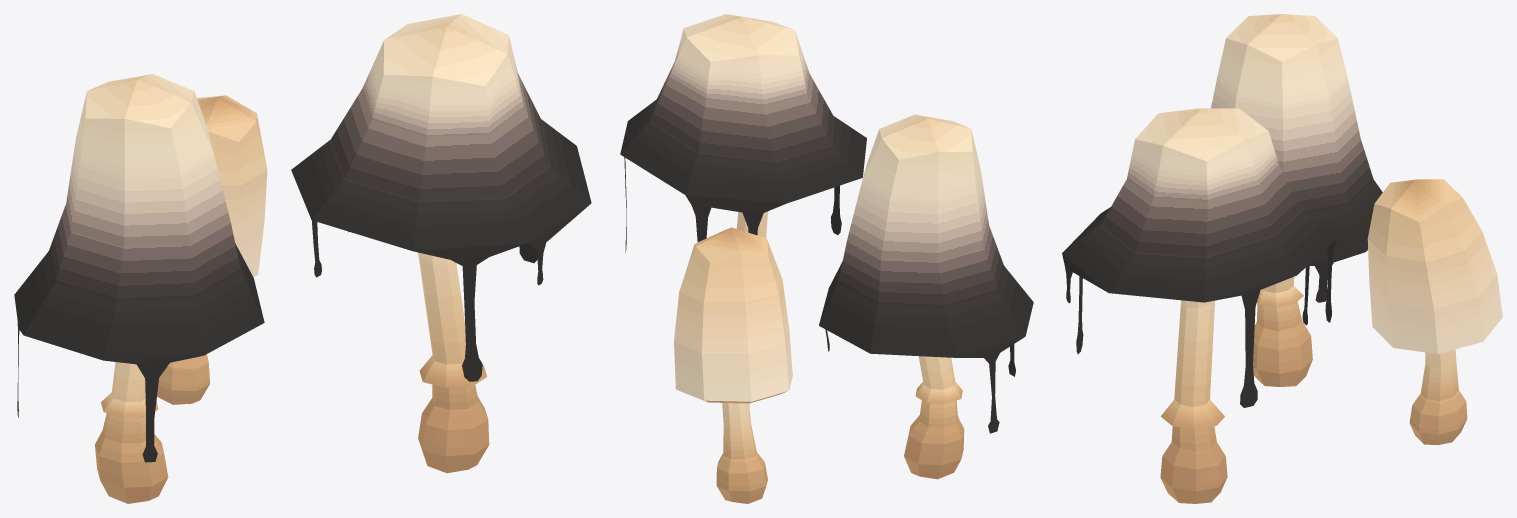
File: InkCaps_Group.glb
3 renders of one model, left to right at view 1: azimuth 30°, elevation 25°; view 2: azimuth 150°, elevation 25°; view 3: azimuth 270°, elevation 25°, orthographic. The views are drawn at different scales.
Parts seen in each view (by area): view 1: ink_bundle; view 2: ink_bundle; view 3: ink_bundle.
Boxes of the visible parts, bbox=[...] form: ink_bundle: bbox=[14, 14, 591, 503]; ink_bundle: bbox=[620, 14, 1033, 503]; ink_bundle: bbox=[1062, 14, 1502, 503].
Size of the model in its own units: 10.52 by 8.71 by 8.86.
1 material, 1 textured.
